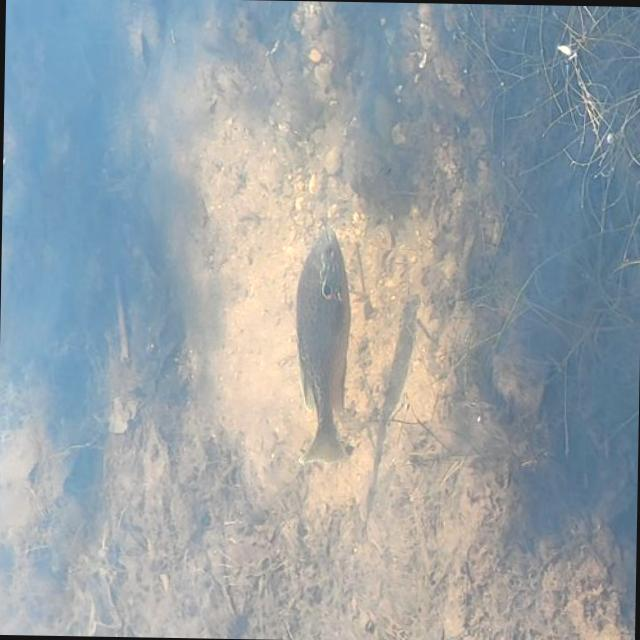Gunes Levregi: (286, 200, 374, 473)
